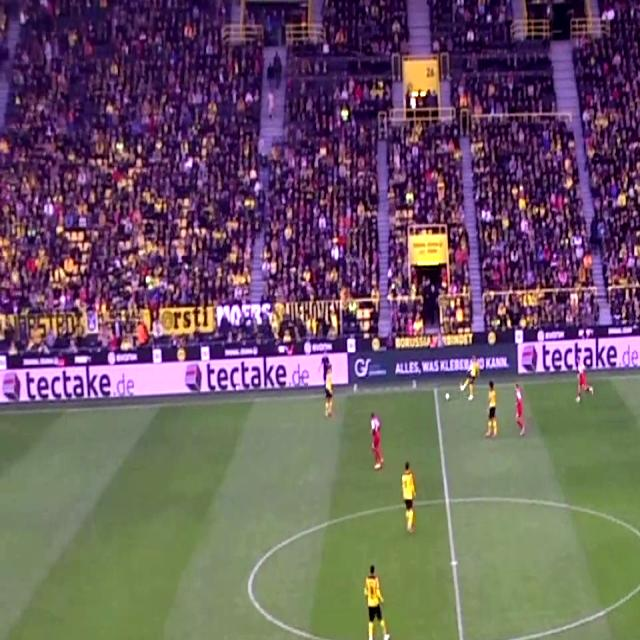ball: (442, 388, 452, 404)
soccer-player: (358, 553, 393, 640), (400, 457, 424, 543), (573, 334, 595, 413), (367, 404, 386, 475), (463, 347, 486, 405), (484, 380, 502, 445), (324, 354, 341, 422), (514, 376, 530, 438), (639, 466, 640, 544)
